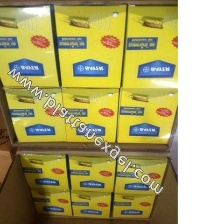book: (116, 1, 201, 91), (47, 0, 131, 91), (0, 0, 61, 88), (3, 81, 68, 145), (113, 83, 178, 146), (58, 82, 122, 145), (111, 151, 170, 197), (17, 150, 68, 192), (64, 152, 116, 192), (24, 181, 76, 217), (65, 183, 118, 218), (107, 184, 158, 220)
